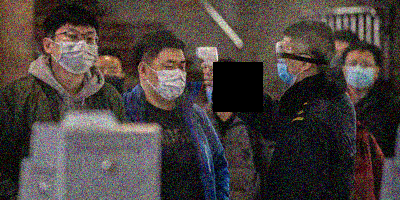with_mask: (52, 28, 100, 75), (151, 58, 188, 101), (276, 40, 304, 88), (344, 56, 377, 90), (95, 63, 123, 91)
